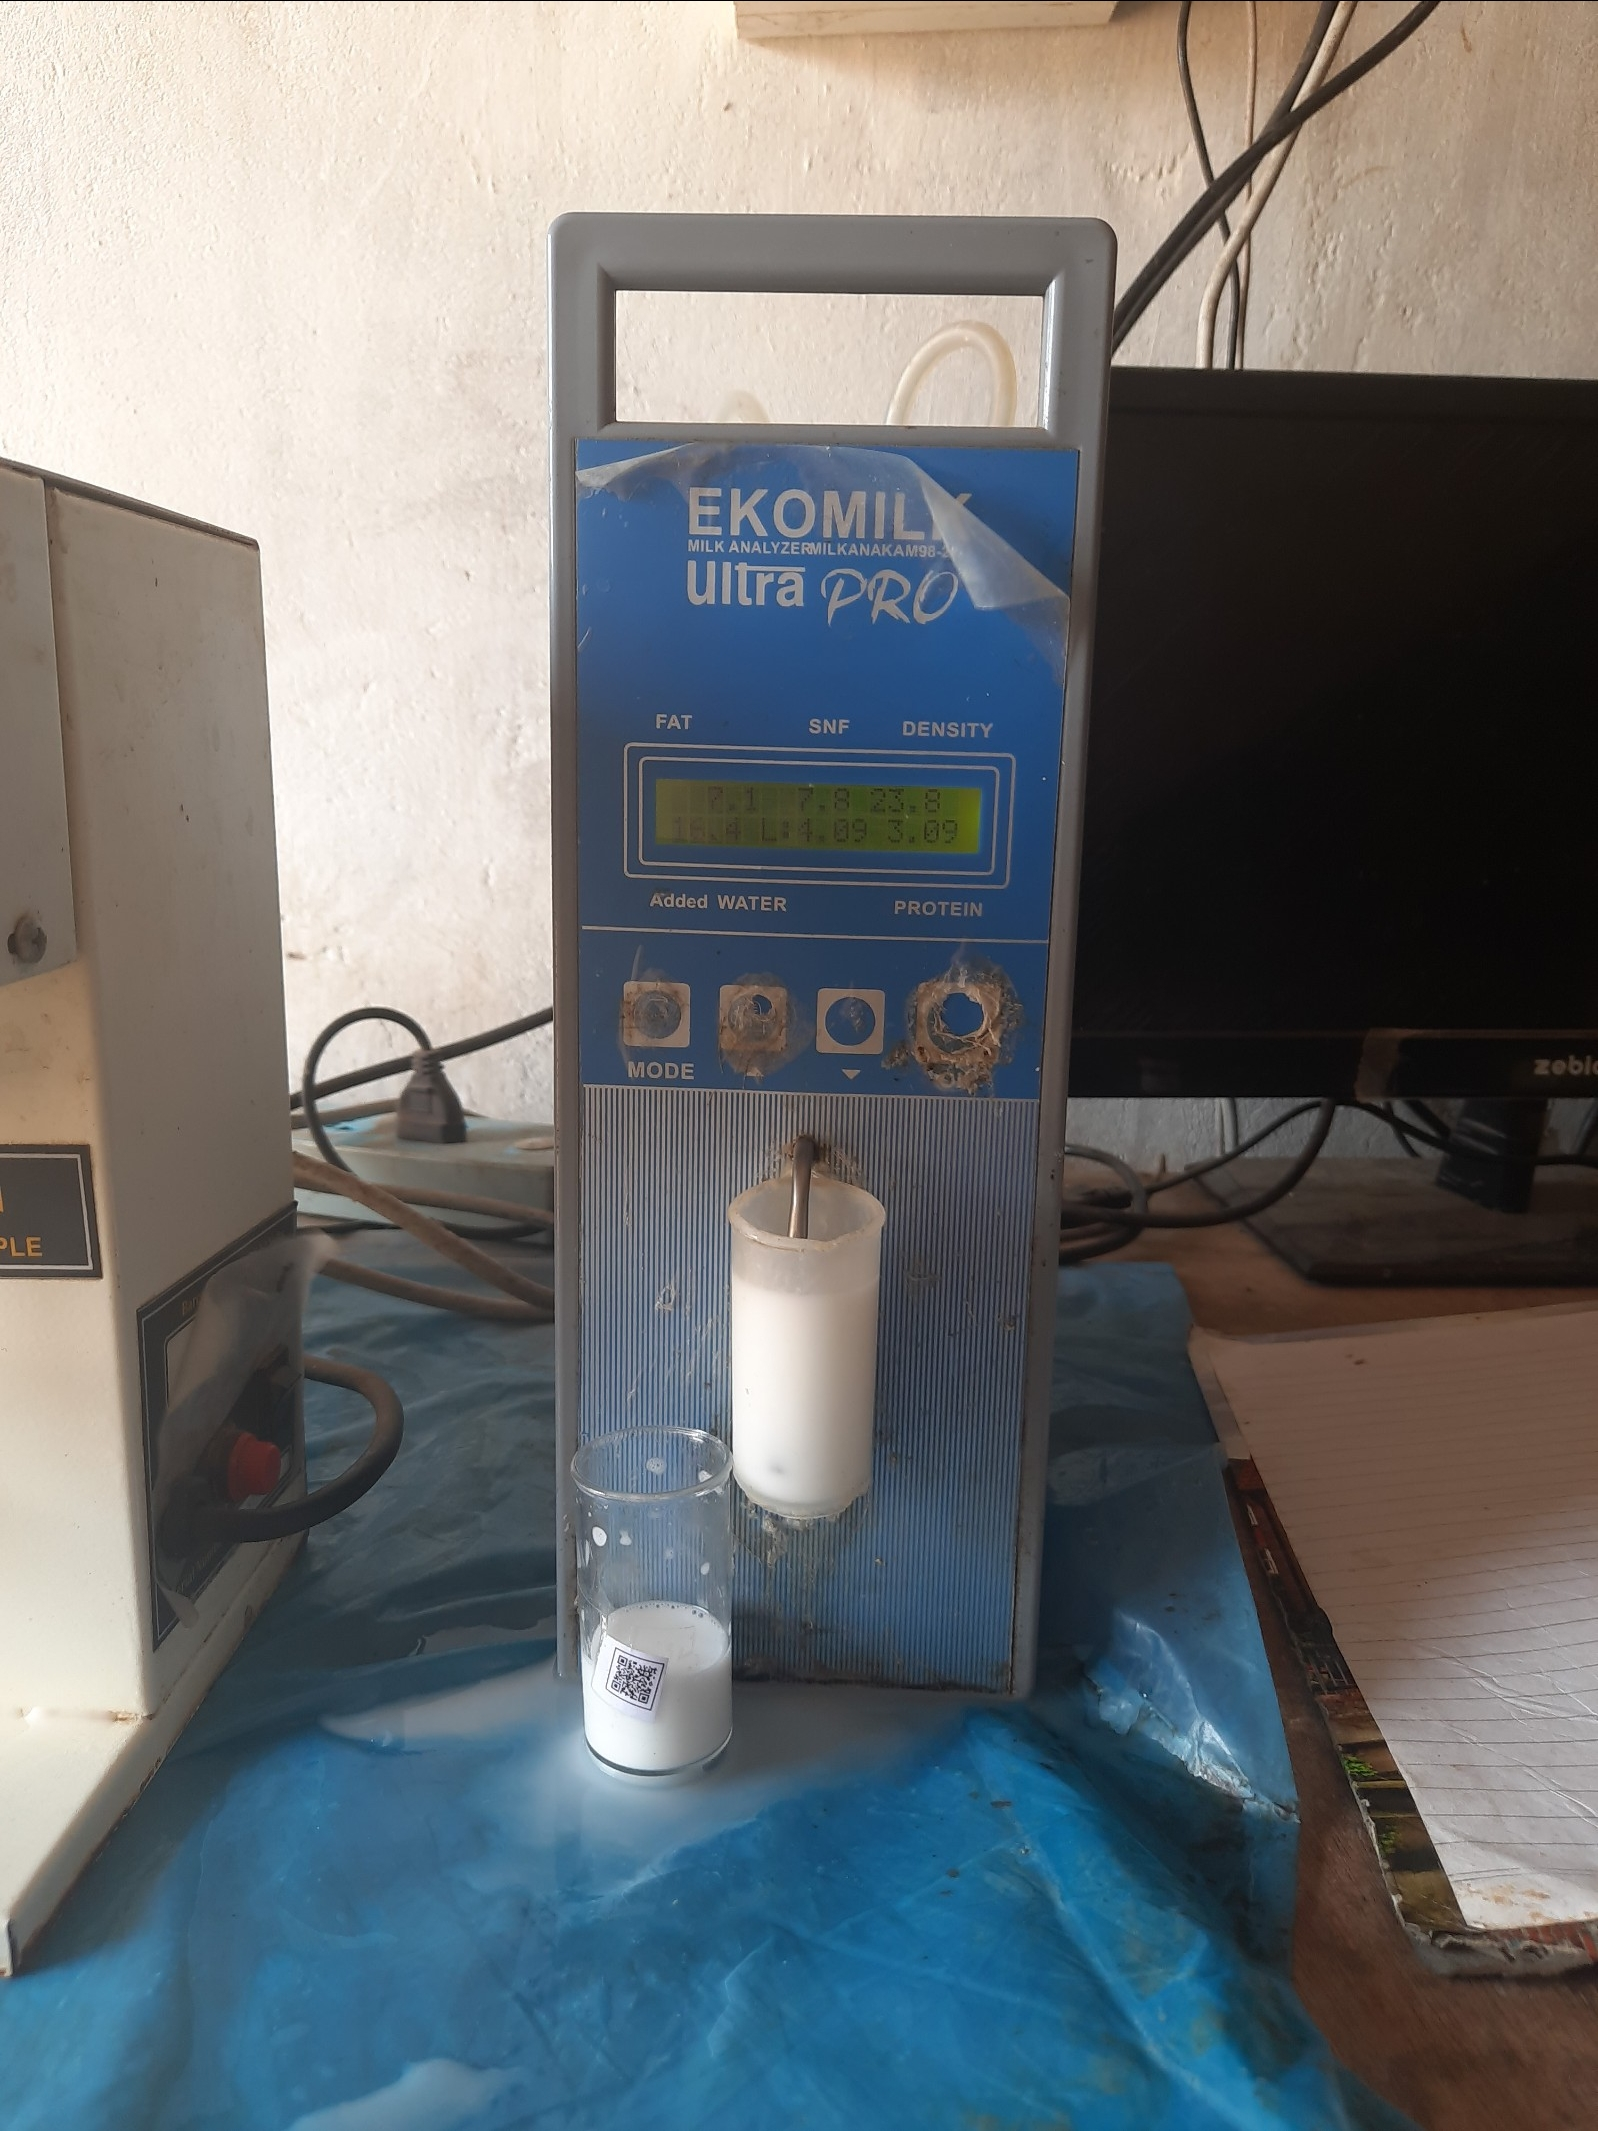lcd: (648, 755, 1000, 884)
qr: (589, 1629, 707, 1723)
